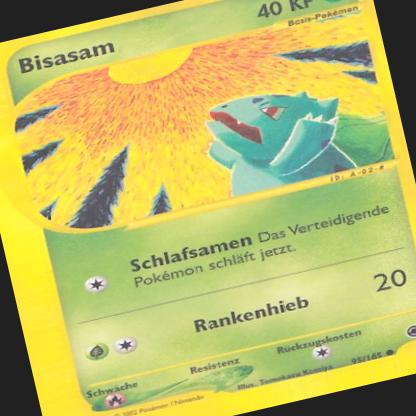Bulbasaur: (194, 63, 395, 203)
